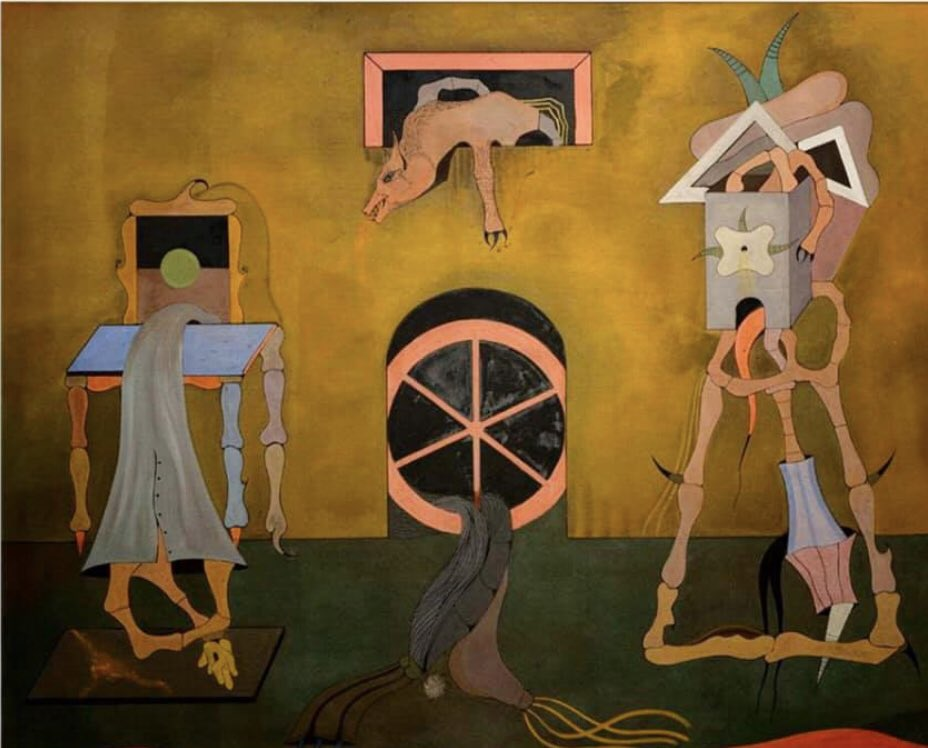aboriginal_flag: (133, 210, 235, 330)
